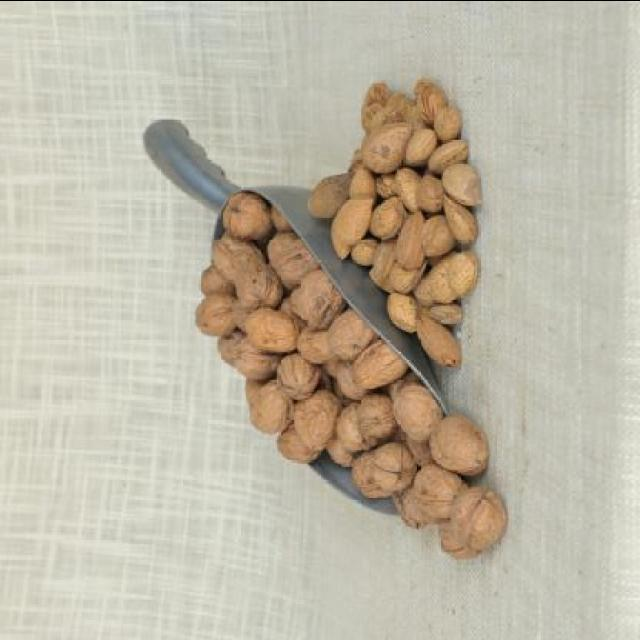Frutta secca: (200, 208, 522, 556), (320, 60, 488, 342)
